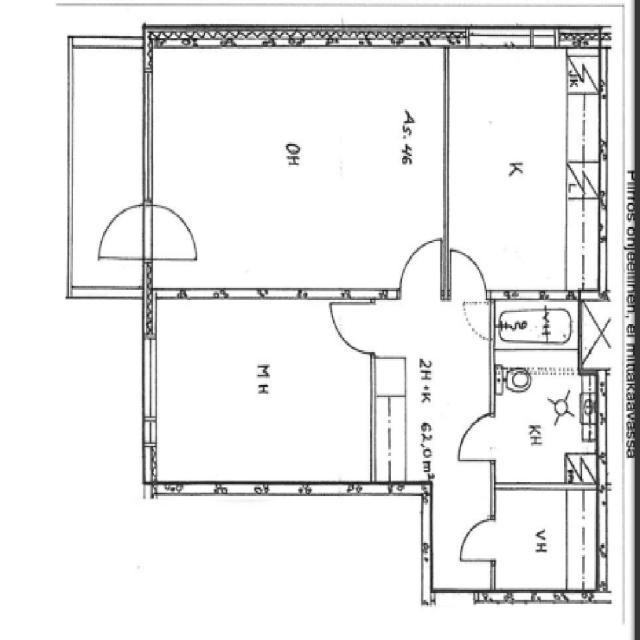door: (93, 198, 150, 269), (144, 197, 202, 266), (390, 231, 447, 297), (328, 290, 381, 358), (444, 242, 494, 311), (454, 409, 502, 469), (454, 284, 498, 348), (456, 510, 501, 568)
window: (130, 58, 162, 207), (135, 328, 162, 428), (258, 280, 341, 306), (180, 280, 262, 306), (465, 22, 534, 52), (501, 284, 550, 308)
zone: (147, 38, 437, 301), (142, 293, 375, 488), (441, 39, 604, 298), (491, 358, 604, 488), (488, 480, 604, 598), (491, 296, 581, 350)
